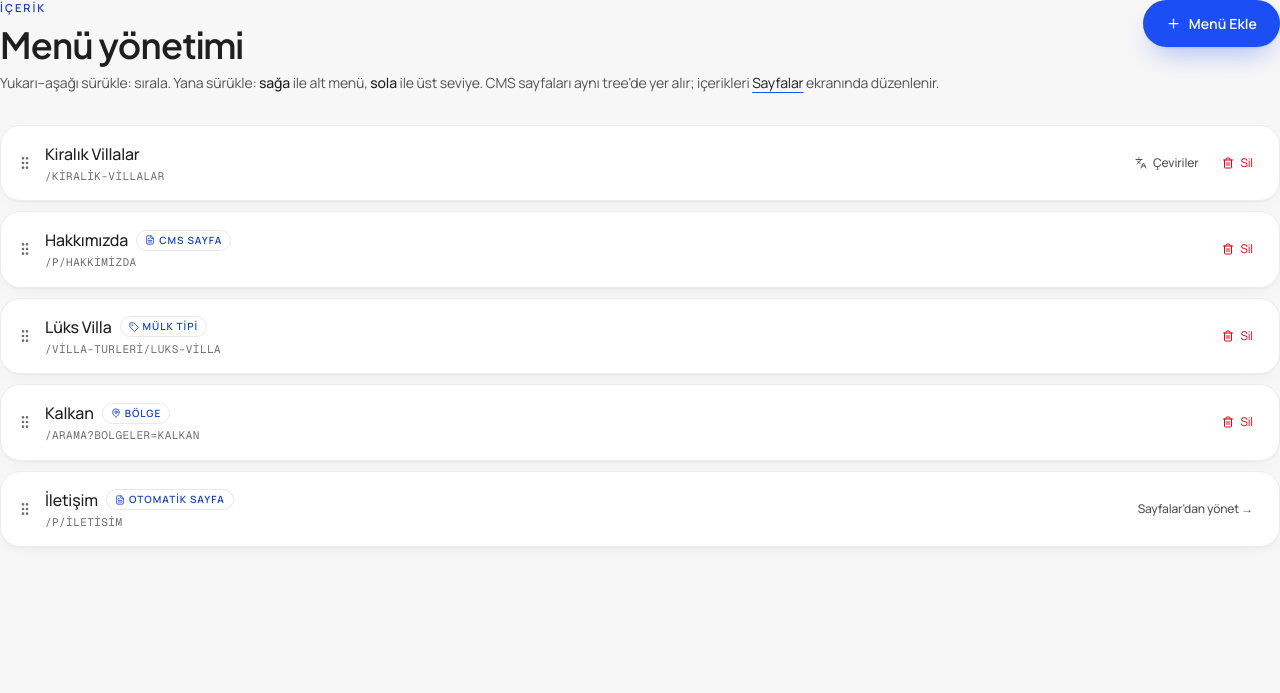
Scenario: /maki-admin/menu — çeviri aksiyonu görünürlüğü › 23) butona basınca panel AÇILIR ve doğru menuId ile yüklenir
The image size is (1280, 693).
Expected: the text "Kiralık Villalar" is shown, [45, 142, 140, 166]
Click the button "Çeviriler": (1167, 163) [1125, 148, 1208, 178]
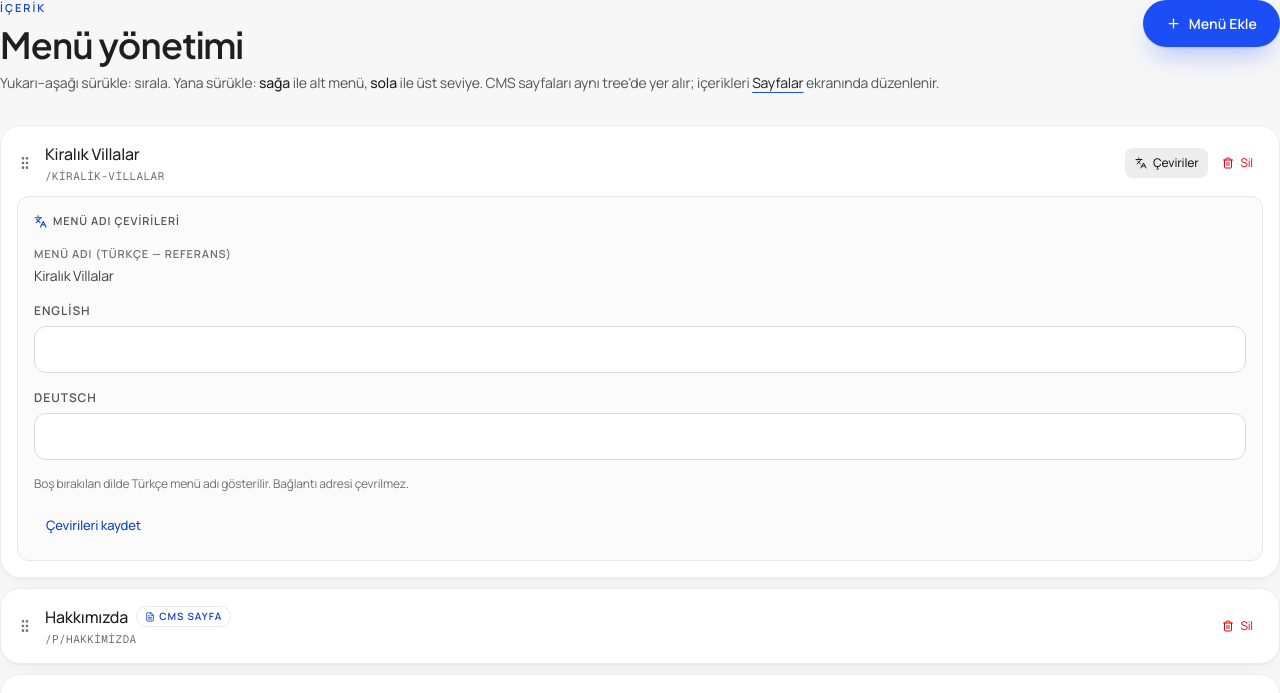
Result: the field named "English" is shown at [34, 326, 1246, 373]
